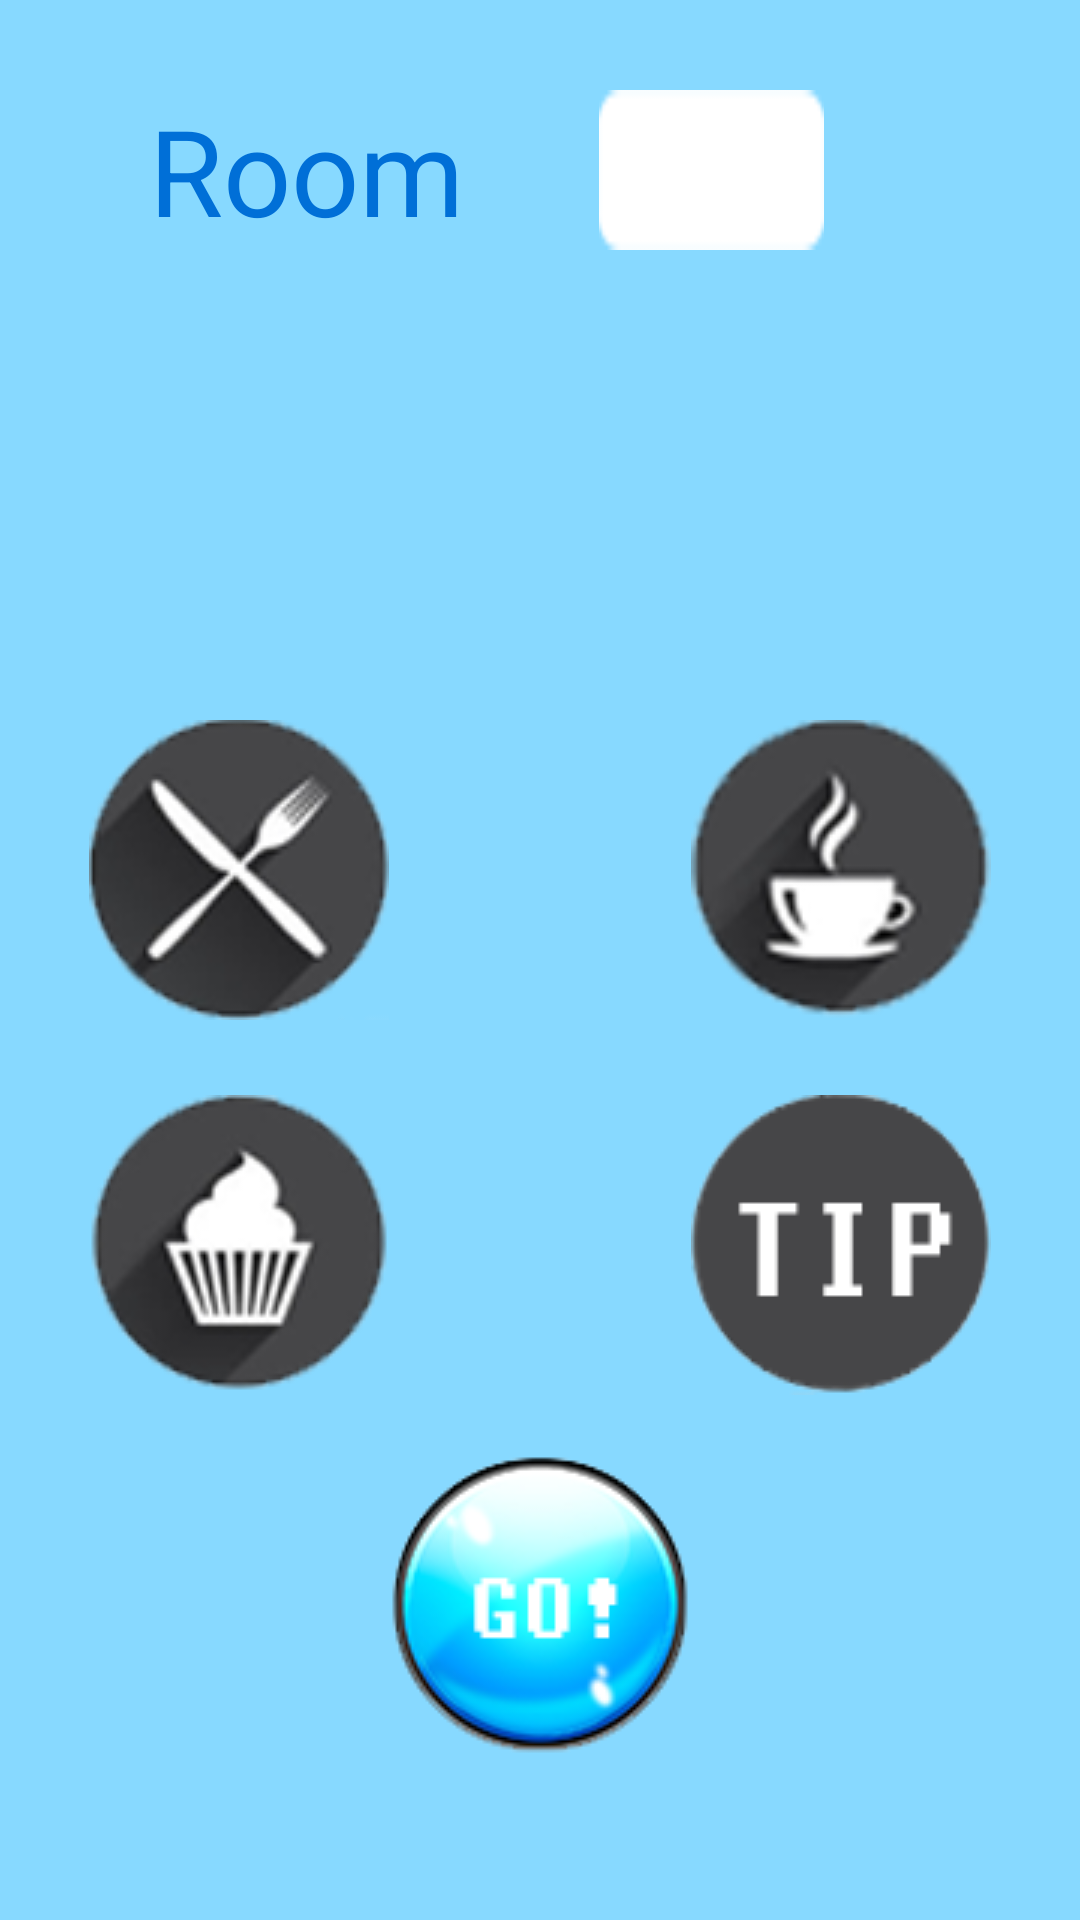

Point at icon controls on the screen. Image size 1080×1920, points as (x,y).
dessert: (239,1242)
drink: (840,867)
food: (239,870)
